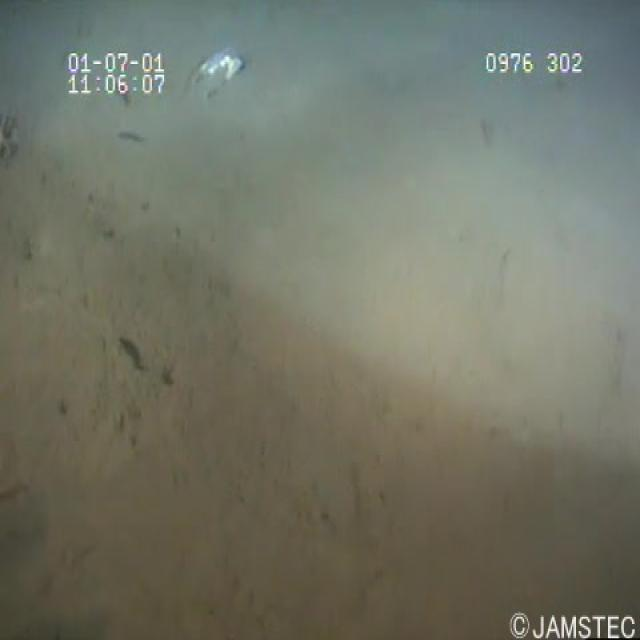plastic: (183, 41, 249, 110)
